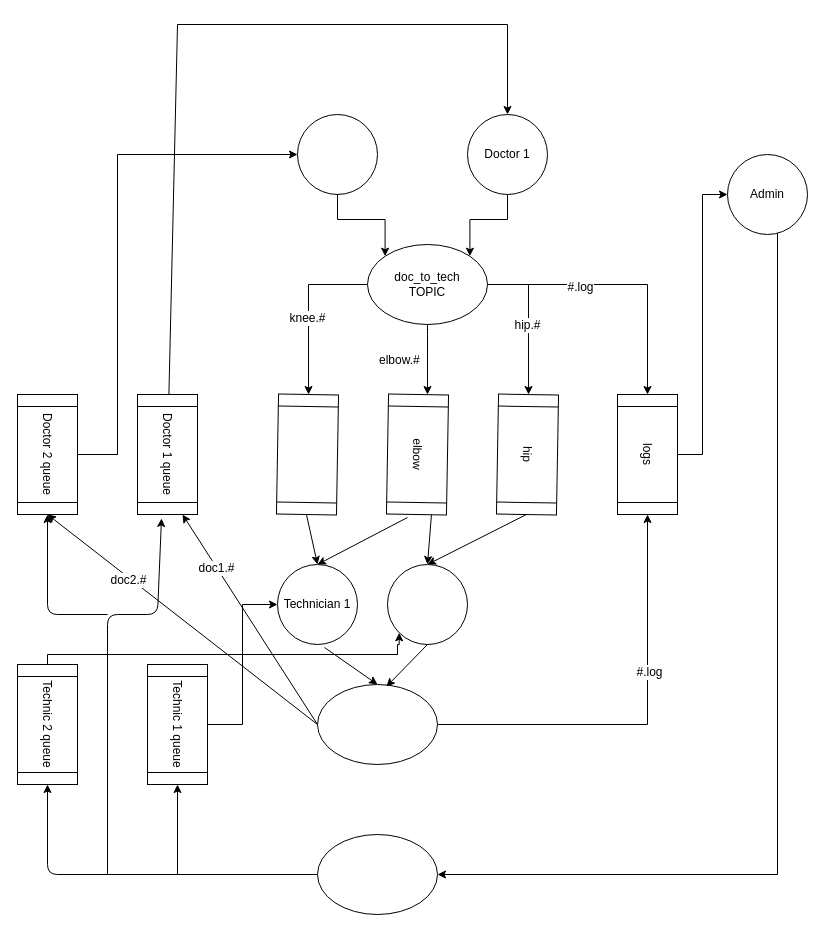
The diagram is 825 pixels wide and 932 high, and some of its shapes have lost their labels. Each missing label, with the centre of its shape:
Doctor 2: point (337, 154)
from_admin FANOUT: point (377, 874)
knee: point (306, 454)
tech_to_doc TOPIC: point (377, 724)
Technician 2: point (427, 604)
